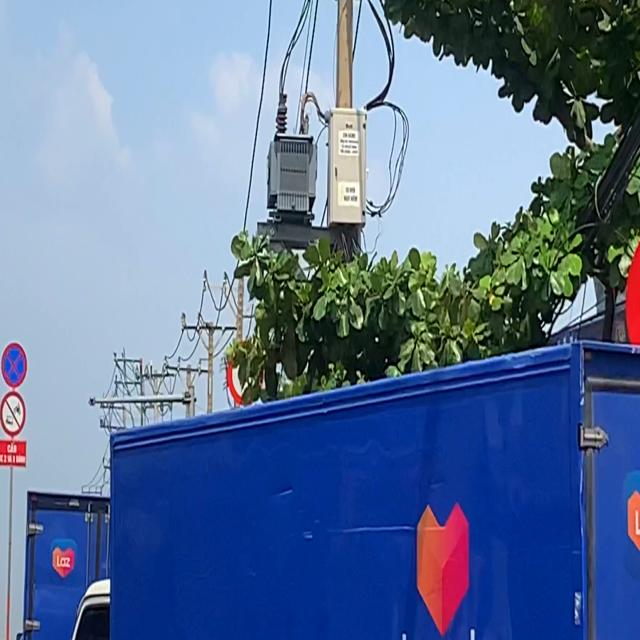Cam con lai: (0, 388, 25, 438)
Cam dung va do: (0, 342, 28, 388)
